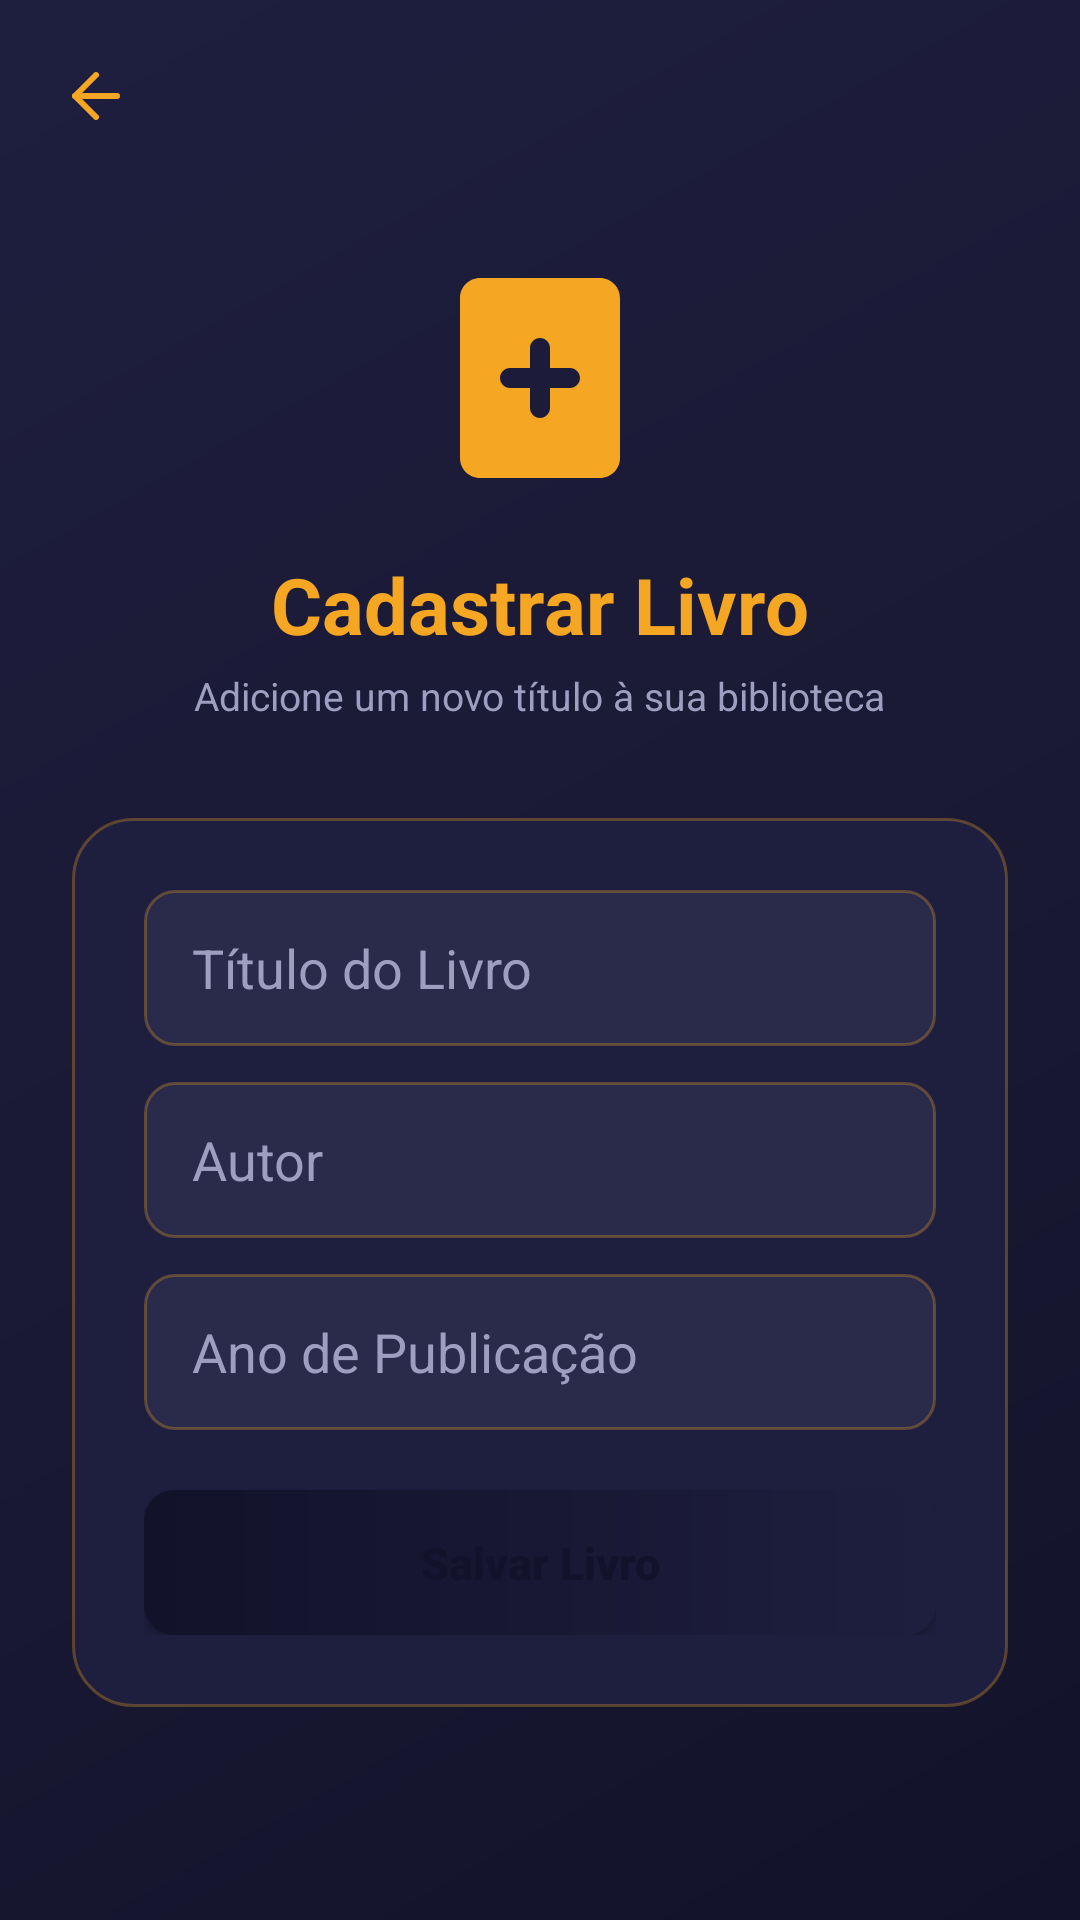

Where to tap for icons on this 1080px×1920px app screen, as [x,y]:
Voltar: [96,96]
